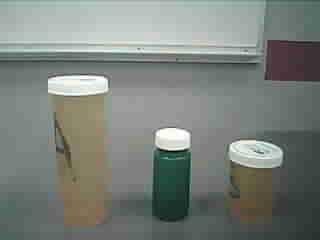Bottle A: (40, 65, 121, 233)
Bottle B: (220, 137, 289, 227)
Bottle C: (150, 123, 199, 228)
